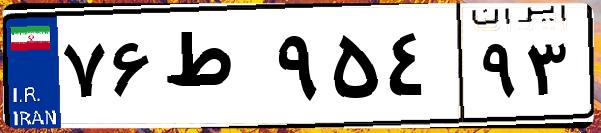3: (525, 38, 570, 115)
4: (385, 28, 445, 110)
5: (330, 28, 385, 110)
6: (110, 28, 158, 98)
7: (57, 26, 110, 100)
9: (270, 28, 330, 110), (475, 38, 525, 113)
ط: (158, 20, 270, 120)
